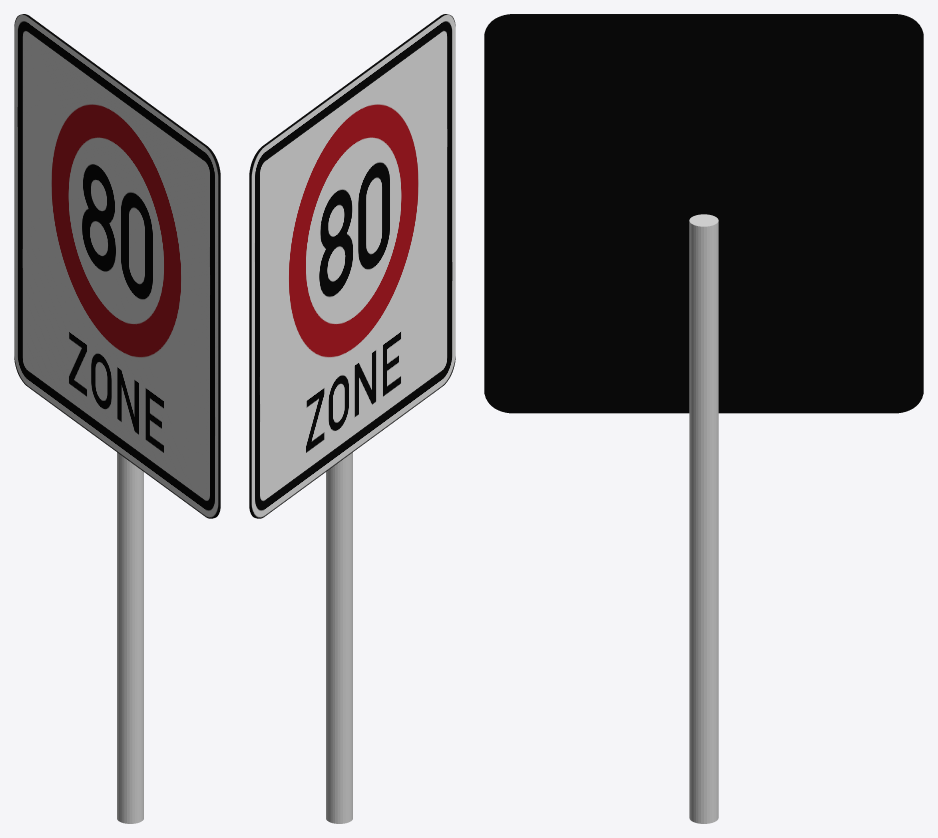
Rendered from speed_limit_zone_80_start_sign.dae.
The picture shows the model from 3 angles, left to right: view 1: azimuth 30°, elevation 25°; view 2: azimuth 150°, elevation 25°; view 3: azimuth 270°, elevation 25°; orthographic projection. The views are drawn at different scales.
Visible parts, largest first — view 1: path3678, Cylinder; view 2: path3678, Cylinder; view 3: path3678, Cylinder.
Part boxes in pixels (x1,y1,x2,y2): path3678: (14,14,220,518); Cylinder: (117,452,143,823); path3678: (249,14,455,518); Cylinder: (326,452,352,823); path3678: (484,14,923,413); Cylinder: (689,214,718,823).
Bounding box in the file's own units: 0.011 × 0.15 × 0.3.
Materials: 3 (2 with a texture image).
